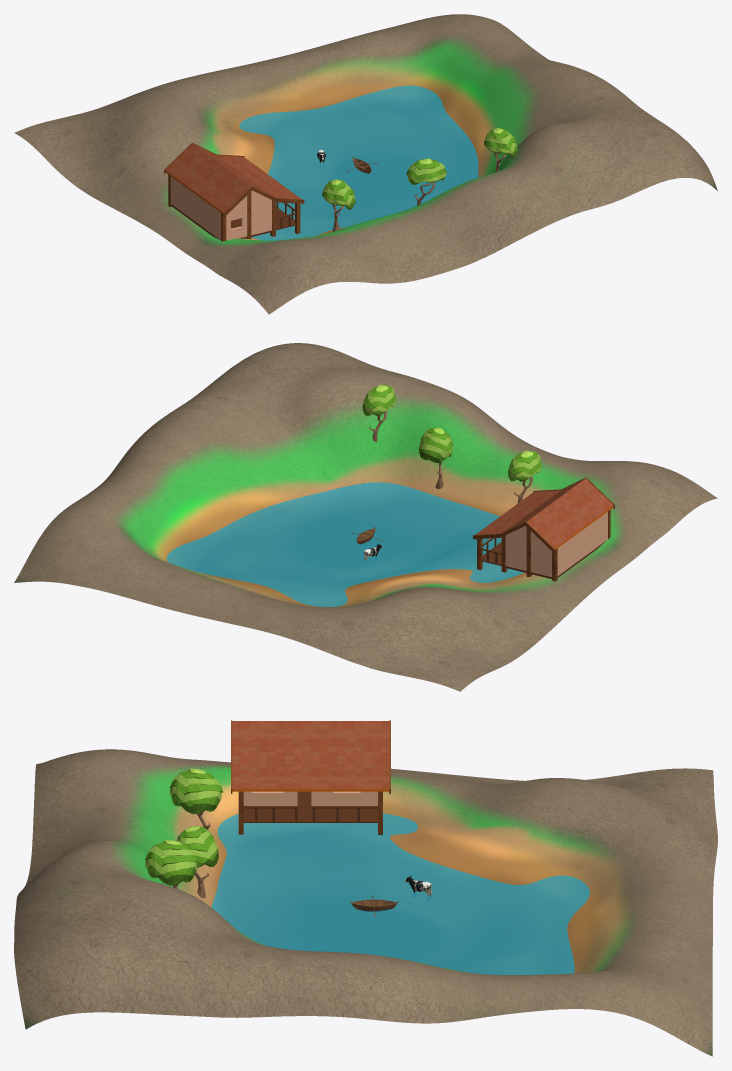
Rendered from world.glb.
3 views of the same model, one above another, from view 1: azimuth 30°, elevation 25°; view 2: azimuth 150°, elevation 25°; view 3: azimuth 270°, elevation 25° (orthographic). The views are drawn at different scales.
Parts seen in each view (by area): view 1: Ground, Water, roof_5, wall-back_27, Tree2, Tree1, Tree3, wall-side_25, wall-side2_31; view 2: Ground, Water, roof_5, wall-back_27, Tree2, Tree3, Tree1, wall-side_25, wall-side3_30; view 3: Ground, Water, roof_5, mat-wood-solid_8, Tree1, Tree3, wall-front_26, Tree2.
Boxes of the visible parts, x1,y1,x2,y2 form: Ground: (14,14,717,314); Water: (239,85,478,240); roof_5: (165,143,301,214); wall-back_27: (171,176,220,239); Tree2: (406,158,446,205); Tree1: (322,179,355,231); Tree3: (484,128,517,171); wall-side_25: (251,190,271,235); wall-side2_31: (226,195,247,240); Ground: (14,343,717,691); Water: (166,482,523,606); roof_5: (475,478,613,549); wall-back_27: (557,512,607,575); Tree2: (419,427,453,488); Tree3: (362,385,396,441); Tree1: (508,450,541,503); wall-side_25: (505,526,526,570); wall-side3_30: (531,531,551,577); Ground: (14,749,717,1056); Water: (211,813,589,974); roof_5: (232,721,389,791); mat-wood-solid_8: (243,806,377,822); Tree1: (169,768,223,829); Tree3: (145,840,198,888); wall-front_26: (243,791,377,805); Tree2: (177,826,218,898).
Bounding box in the file's own units: 51.87 × 10.06 × 52.04.
12 materials, 5 textured.
